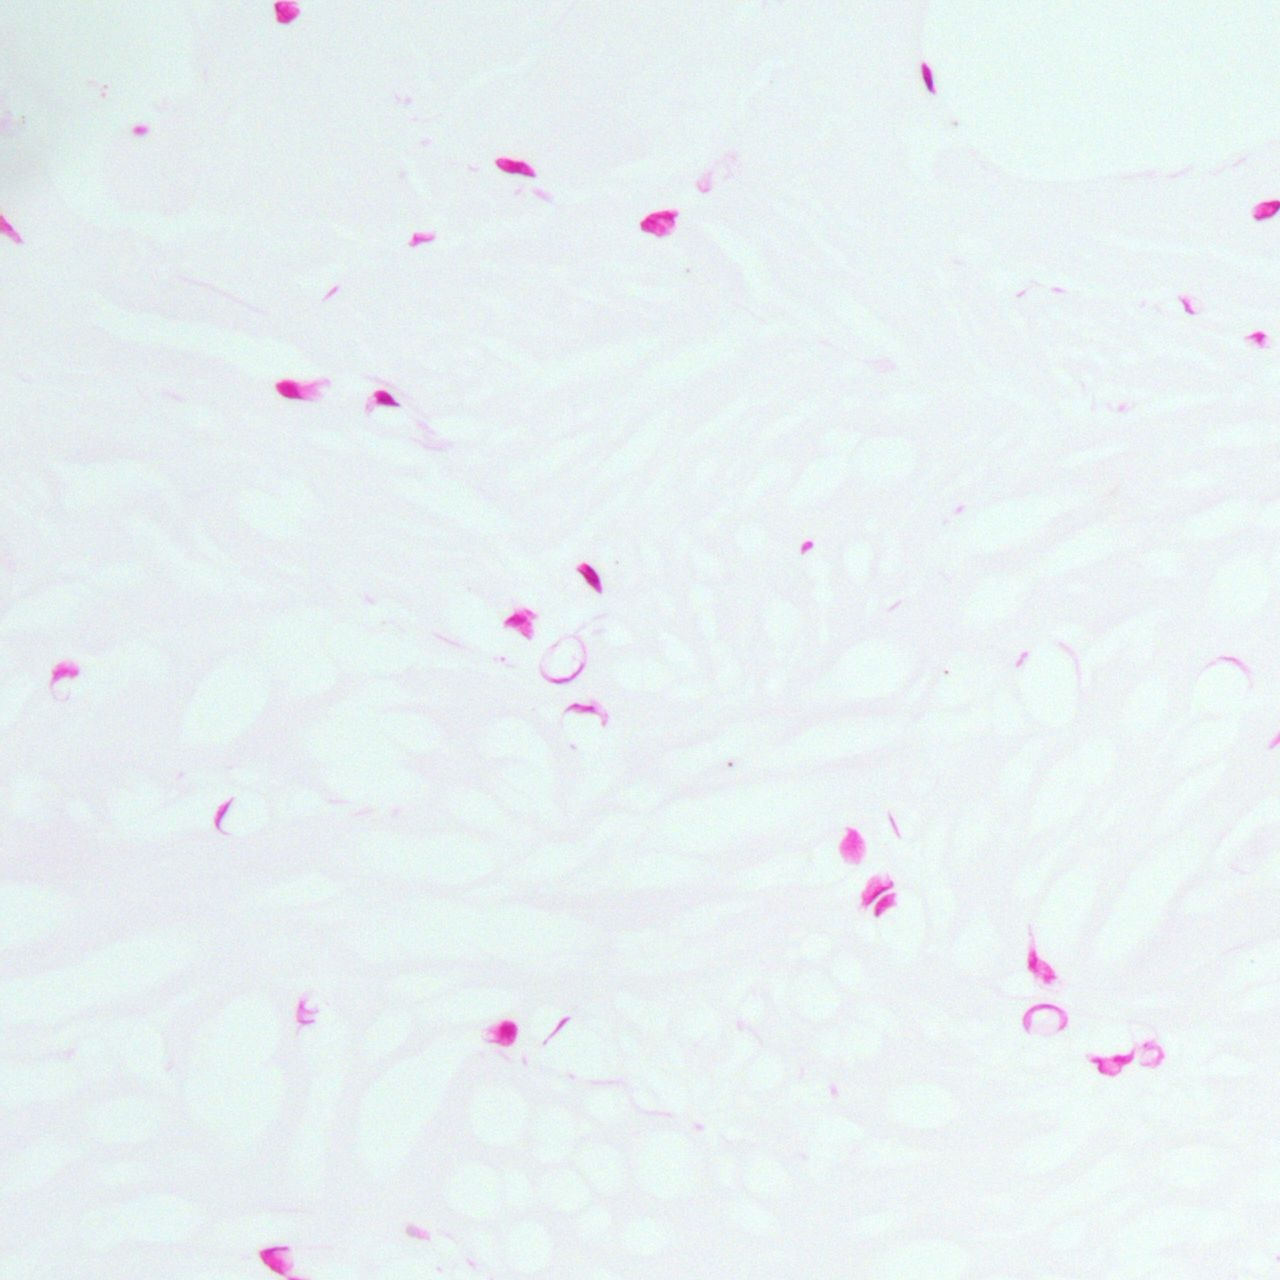nucleus-FG: (493, 154, 539, 181), (576, 558, 606, 593), (277, 379, 318, 400), (919, 61, 937, 91), (374, 390, 399, 406), (408, 232, 433, 246)
